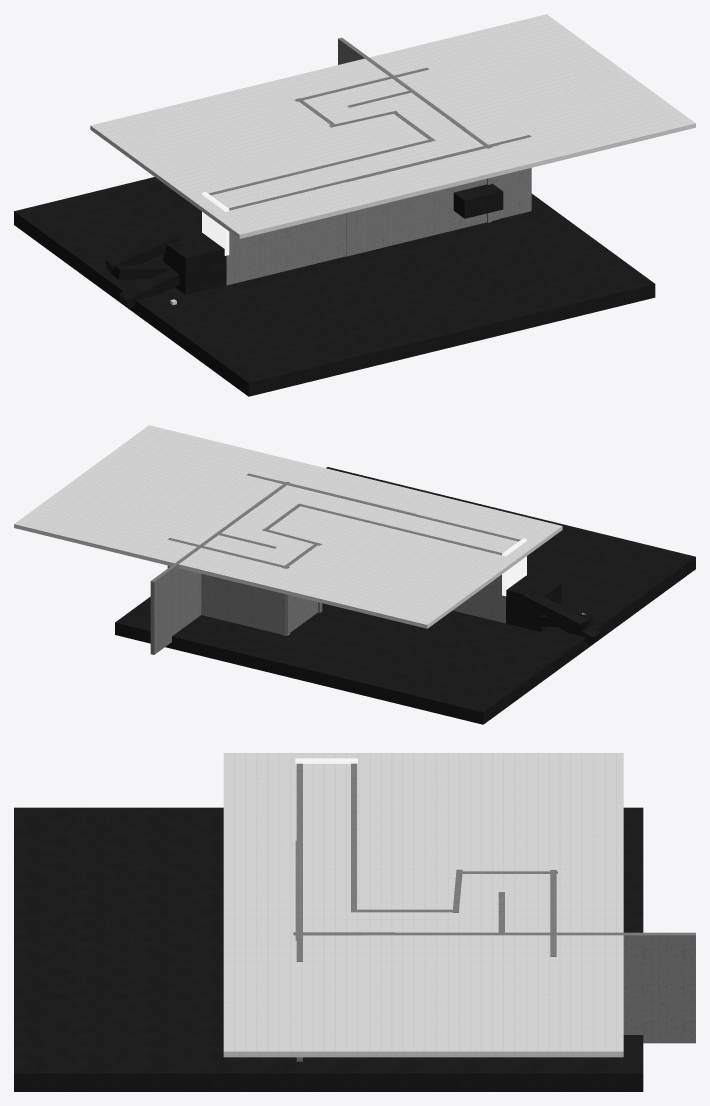
Rendered from map.glb.
3 renders of one model, top to bottom at view 1: azimuth 30°, elevation 25°; view 2: azimuth 150°, elevation 25°; view 3: azimuth 270°, elevation 25°, orthographic. The views are drawn at different scales.
Visible parts, largest first — view 1: notBox2.003, Box1, Box2.018, Box2.012, Box2.021, Box2.010, Box2.023, Box2.003, Box2.002, Box2.022, Box, Box2.014; view 2: notBox2.003, Box1, Box2.004, Box2.002, Box2.014, Box2.021, Box2.023, Box2.005, Box, Box2.018; view 3: notBox2.003, Box1, Box2.002, Box2.018, Box2.014, Box2.012, Box2.004.
Boxes of the visible parts, x1,y1,x2,y2 form: notBox2.003: [90, 14, 695, 238]; Box1: [14, 177, 655, 396]; Box2.018: [226, 135, 531, 285]; Box2.012: [345, 143, 499, 256]; Box2.021: [163, 233, 226, 294]; Box2.010: [453, 183, 503, 218]; Box2.023: [105, 230, 180, 271]; Box2.003: [119, 268, 179, 308]; Box2.002: [338, 37, 464, 129]; Box2.022: [111, 262, 171, 279]; Box: [202, 192, 229, 255]; Box2.014: [208, 139, 435, 195]; notBox2.003: [14, 425, 562, 628]; Box1: [115, 467, 695, 724]; Box2.004: [167, 538, 289, 635]; Box2.002: [150, 498, 266, 654]; Box2.014: [298, 503, 505, 623]; Box2.021: [506, 575, 561, 631]; Box2.023: [521, 590, 588, 632]; Box2.005: [282, 542, 318, 635]; Box: [502, 538, 526, 596]; Box2.018: [247, 473, 520, 541]; notBox2.003: [223, 753, 623, 1057]; Box1: [14, 807, 643, 1091]; Box2.002: [362, 932, 695, 1043]; Box2.018: [296, 763, 302, 1061]; Box2.014: [351, 763, 356, 912]; Box2.012: [295, 840, 301, 940]; Box2.004: [550, 870, 556, 956].
Bounding box in the file's own units: 263 × 42.37 × 217.
12 materials, 10 textured.
